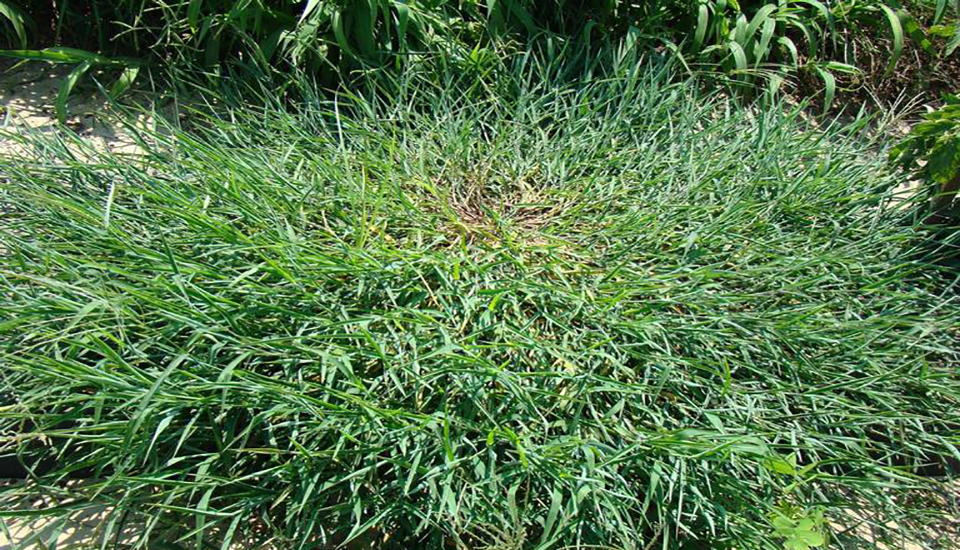crabgrass: (155, 119, 869, 524)
